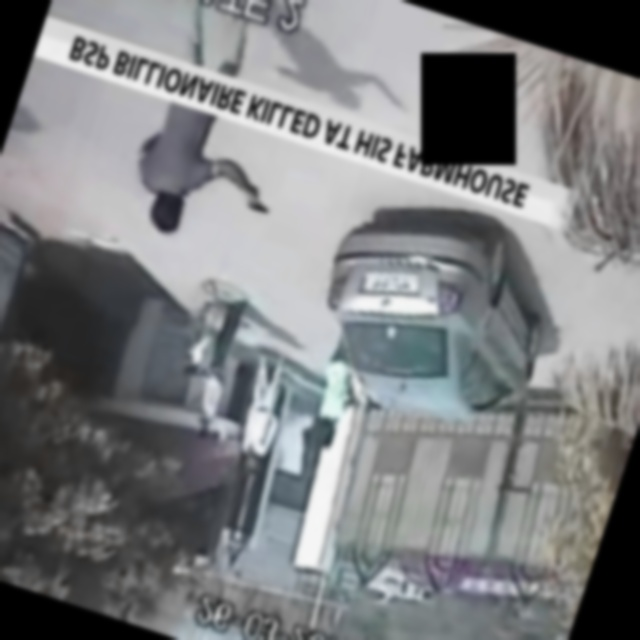gun: (237, 182, 279, 227)
